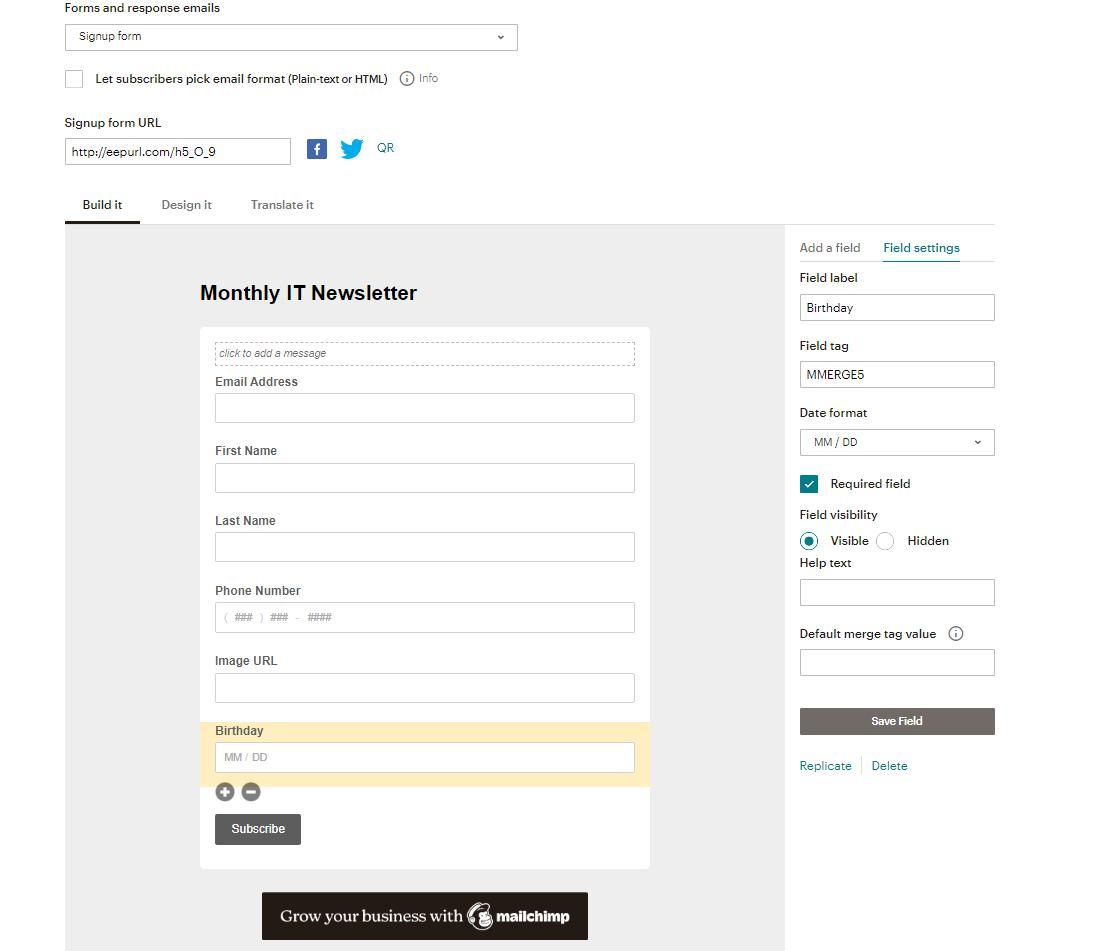button: (261, 892, 591, 943), (800, 708, 998, 737), (214, 814, 303, 847)
checkbox: (63, 70, 86, 91), (799, 474, 820, 496)
dropdown: (66, 24, 519, 51), (801, 429, 996, 457)
input: (215, 742, 637, 775), (215, 673, 636, 705), (216, 462, 638, 493), (214, 533, 635, 564), (216, 394, 637, 425), (216, 605, 635, 636), (65, 138, 293, 166), (800, 649, 995, 677), (801, 294, 996, 322), (800, 581, 997, 608), (801, 362, 995, 389)
label: (196, 280, 418, 306), (94, 72, 389, 89), (65, 1, 223, 16), (798, 628, 939, 643), (881, 240, 964, 259), (214, 374, 300, 390), (64, 117, 162, 130), (214, 585, 303, 598), (801, 509, 879, 523), (832, 478, 913, 491), (248, 199, 317, 214), (799, 242, 862, 258), (800, 407, 871, 421), (215, 445, 278, 458), (215, 723, 266, 739), (214, 656, 281, 668), (800, 272, 859, 285), (800, 557, 854, 571), (215, 516, 277, 528), (161, 199, 213, 213), (800, 761, 853, 774), (801, 341, 852, 354), (82, 199, 125, 212), (829, 535, 871, 548), (906, 535, 950, 547), (872, 760, 911, 773)
radio: (799, 531, 820, 552), (876, 532, 896, 551)
